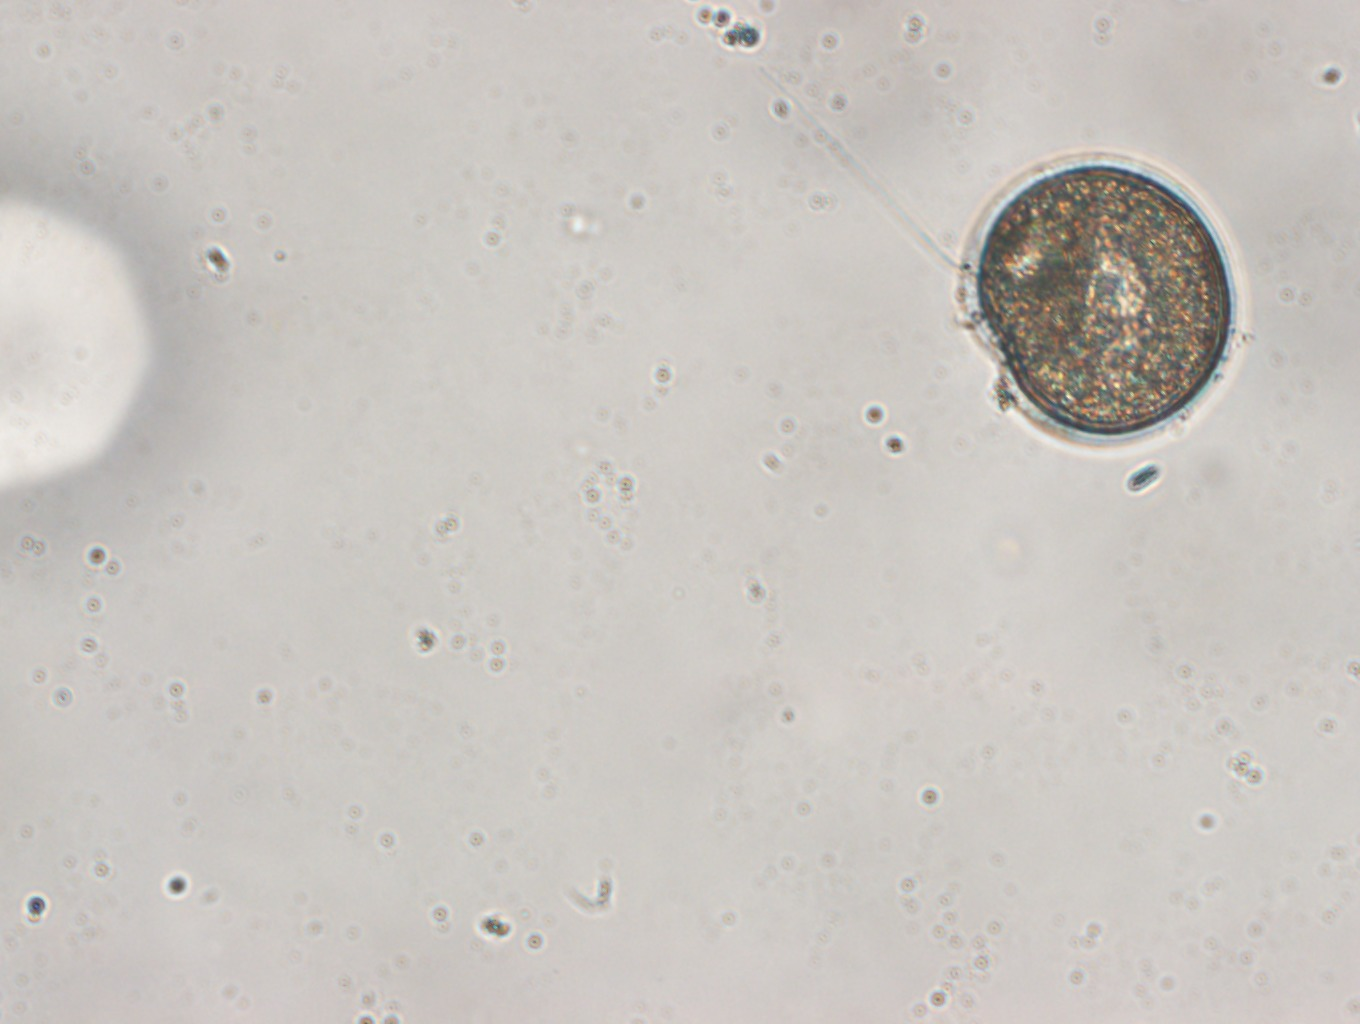coscinodiscus: (954, 148, 1237, 446)
